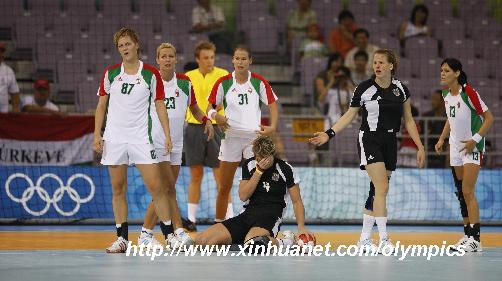10+: (1, 2, 493, 259)
down: (169, 130, 314, 256)
